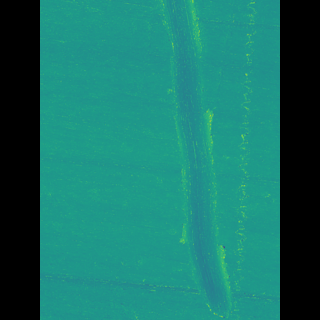Loch: (151, 0, 215, 320)
